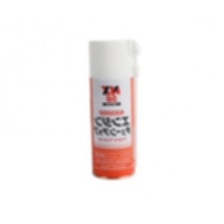aerosol_cans: (85, 35, 143, 183)
